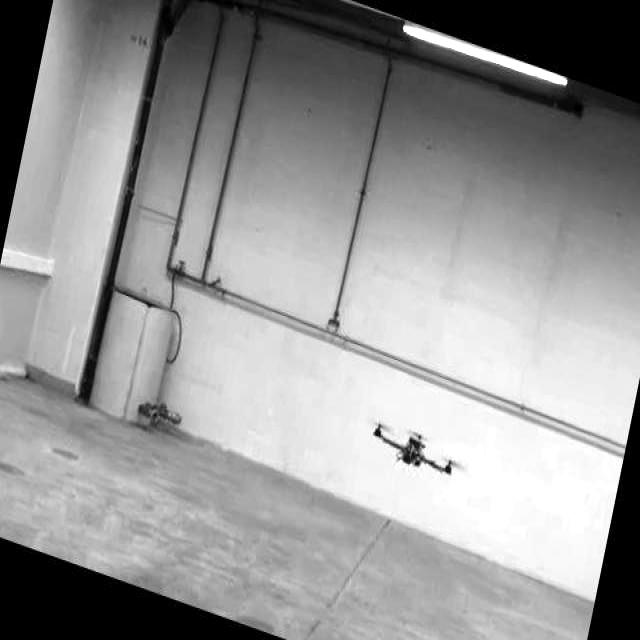drone: (362, 410, 463, 486)
